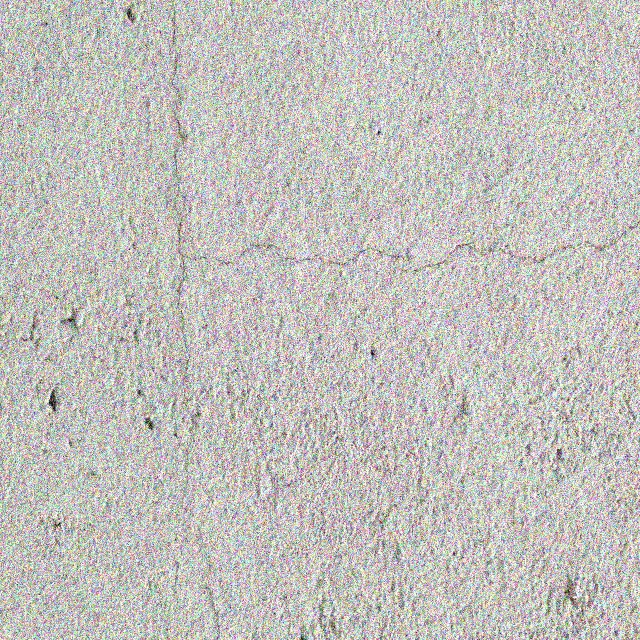SurfaceCrack: (0, 182, 639, 300)
